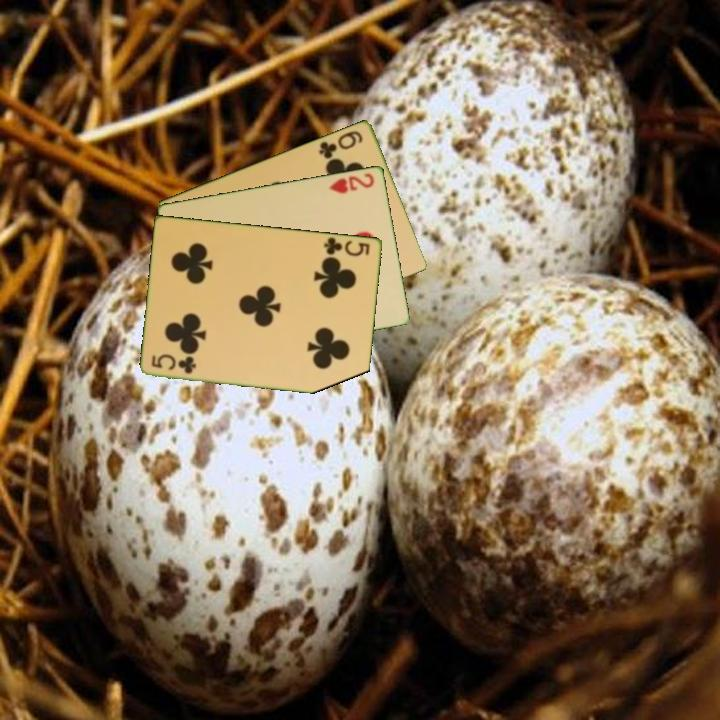2h: (326, 169, 377, 196)
5c: (321, 234, 373, 259), (148, 351, 199, 376)
6c: (315, 127, 366, 161)
